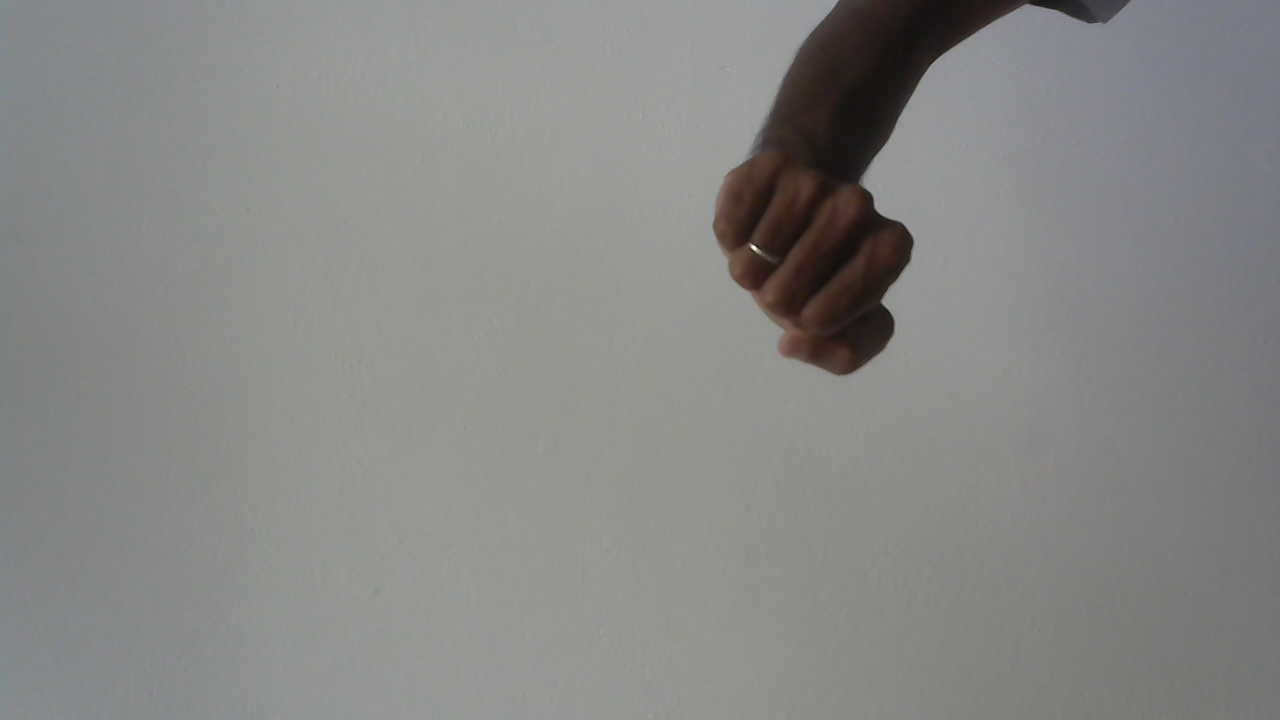yes: (701, 137, 934, 398)
